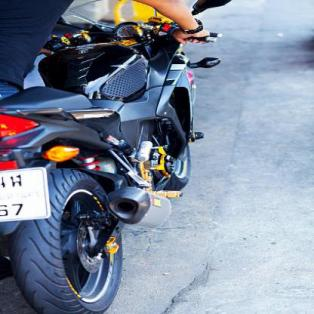Motocicleta: (0, 0, 223, 313)
